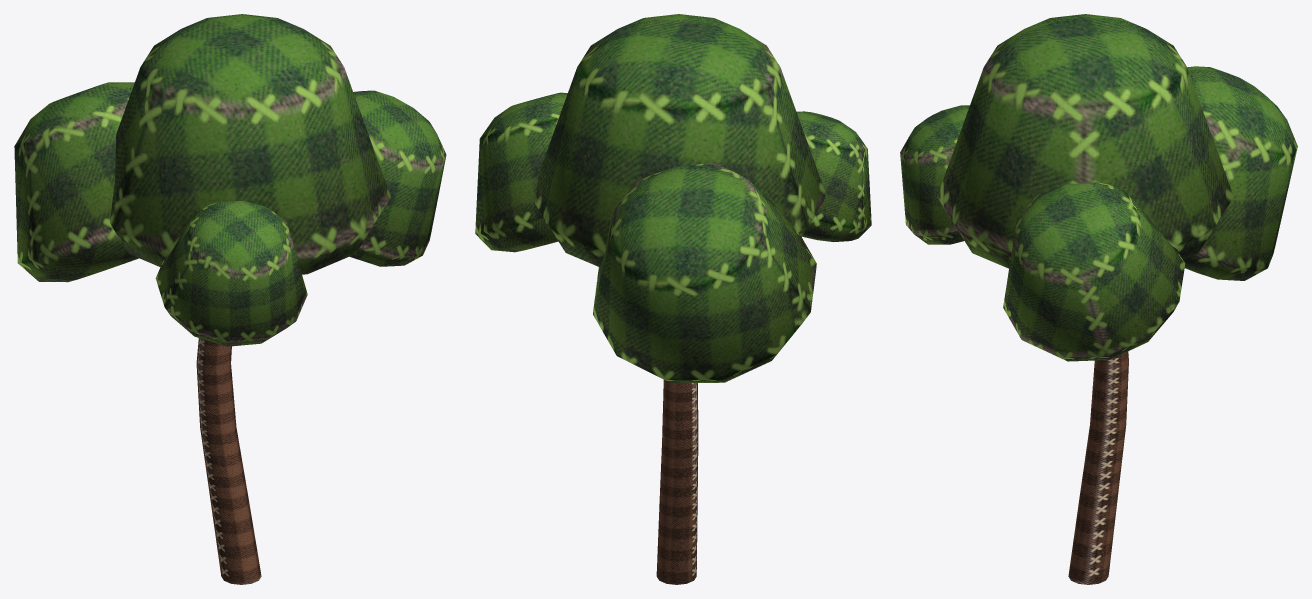
Rendered from lpb_cs_tree20.fbx.
3 renders of one model, left to right at view 1: azimuth 30°, elevation 25°; view 2: azimuth 150°, elevation 25°; view 3: azimuth 270°, elevation 25°, orthographic.
Parts seen in each view (by area): view 1: lpb_cs_tree20; view 2: lpb_cs_tree20; view 3: lpb_cs_tree20.
Boxes of the visible parts, x1=… form: lpb_cs_tree20: x1=14, y1=14, x2=446, y2=584; lpb_cs_tree20: x1=475, y1=14, x2=871, y2=584; lpb_cs_tree20: x1=900, y1=14, x2=1297, y2=584.
Bounding box in the file's own units: 144 × 205 × 136.
